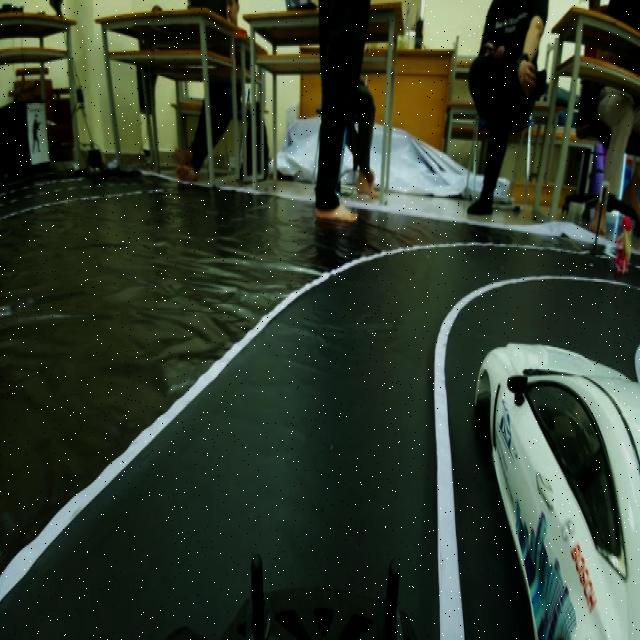car: (475, 310, 640, 639)
